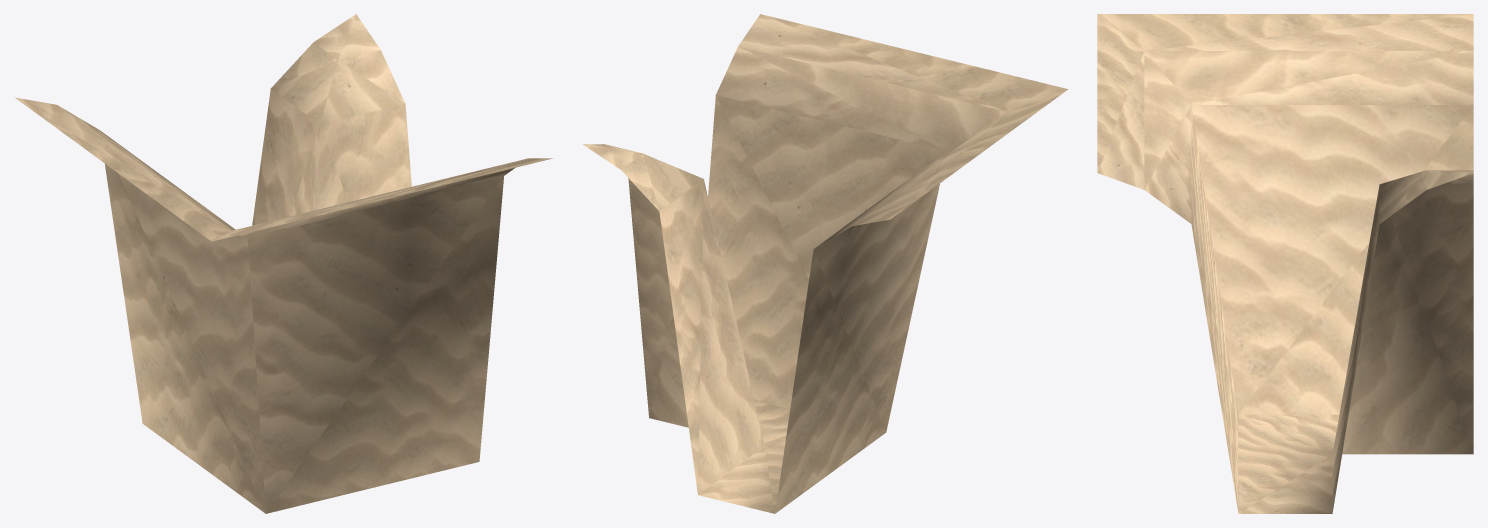
Rendered from Sand2a.obj.
The picture shows the model from 3 angles, left to right: view 1: azimuth 30°, elevation 25°; view 2: azimuth 150°, elevation 25°; view 3: azimuth 270°, elevation 25°; orthographic projection. The views are drawn at different scales.
Parts seen in each view (by area): view 1: Grid_Grid.011_Grid_Grid.008; view 2: Grid_Grid.011_Grid_Grid.008; view 3: Grid_Grid.011_Grid_Grid.008.
Boxes of the visible parts, x1,y1,x2,y2 form: Grid_Grid.011_Grid_Grid.008: (15, 14, 552, 513); Grid_Grid.011_Grid_Grid.008: (583, 14, 1068, 513); Grid_Grid.011_Grid_Grid.008: (1097, 14, 1473, 513).
Bounding box in the file's own units: 1 × 1 × 1.
Materials: 1 (1 with a texture image).
